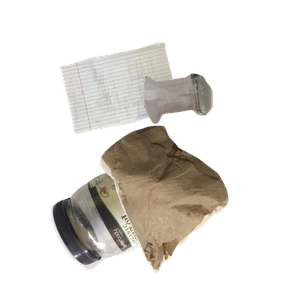glass: (141, 71, 300, 187)
paper: (56, 40, 229, 166)
plastic: (48, 152, 228, 300)
trash: (98, 123, 300, 300)
